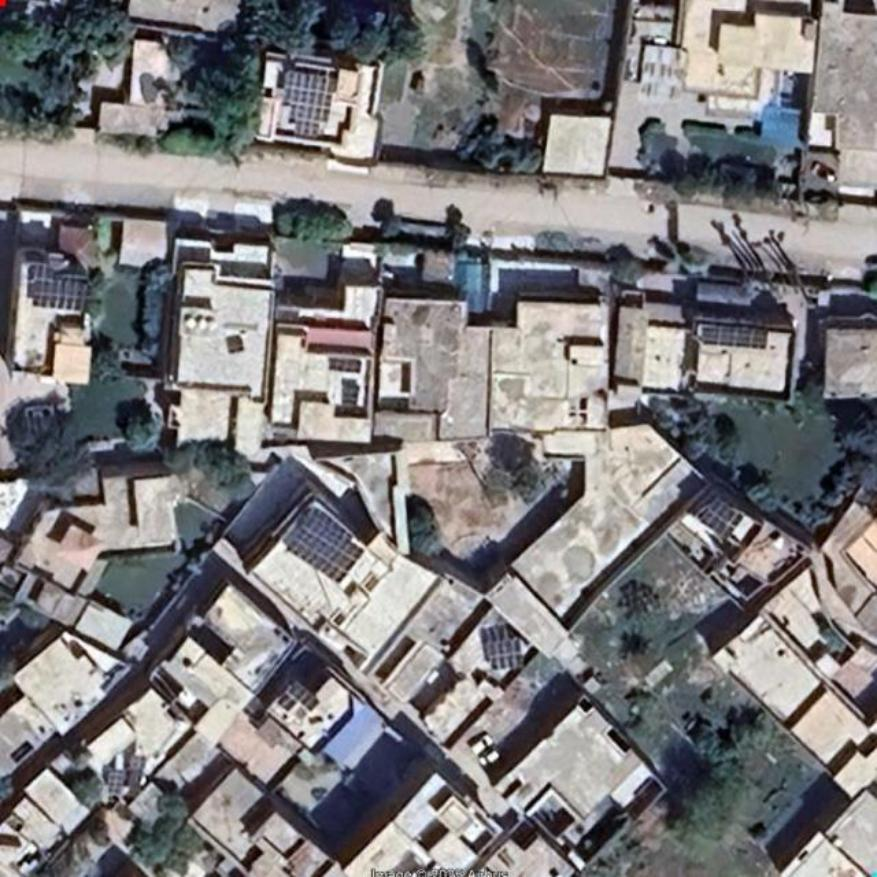Solarpanel: (286, 510, 367, 583), (273, 69, 341, 136), (31, 265, 86, 309), (701, 495, 742, 542), (697, 323, 768, 346), (482, 638, 523, 668)
